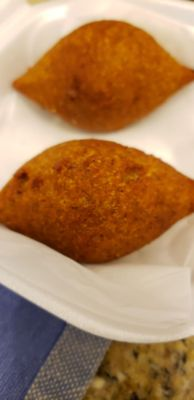salad: (0, 138, 194, 263), (11, 18, 193, 133)
